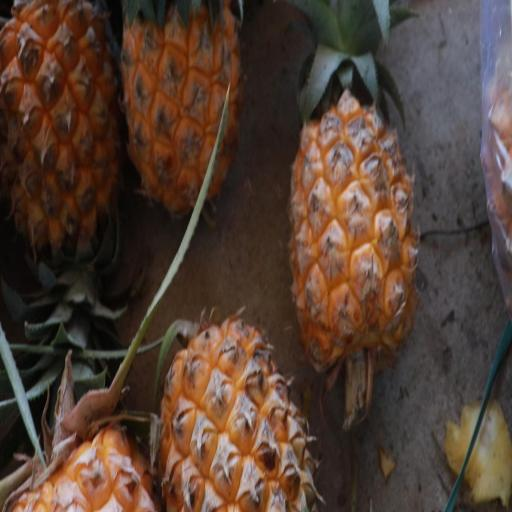Pineapple - v8 v1: (284, 72, 423, 376), (150, 298, 321, 512), (0, 0, 122, 260), (118, 2, 247, 218)
